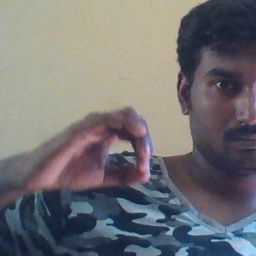O: (26, 102, 155, 193)
